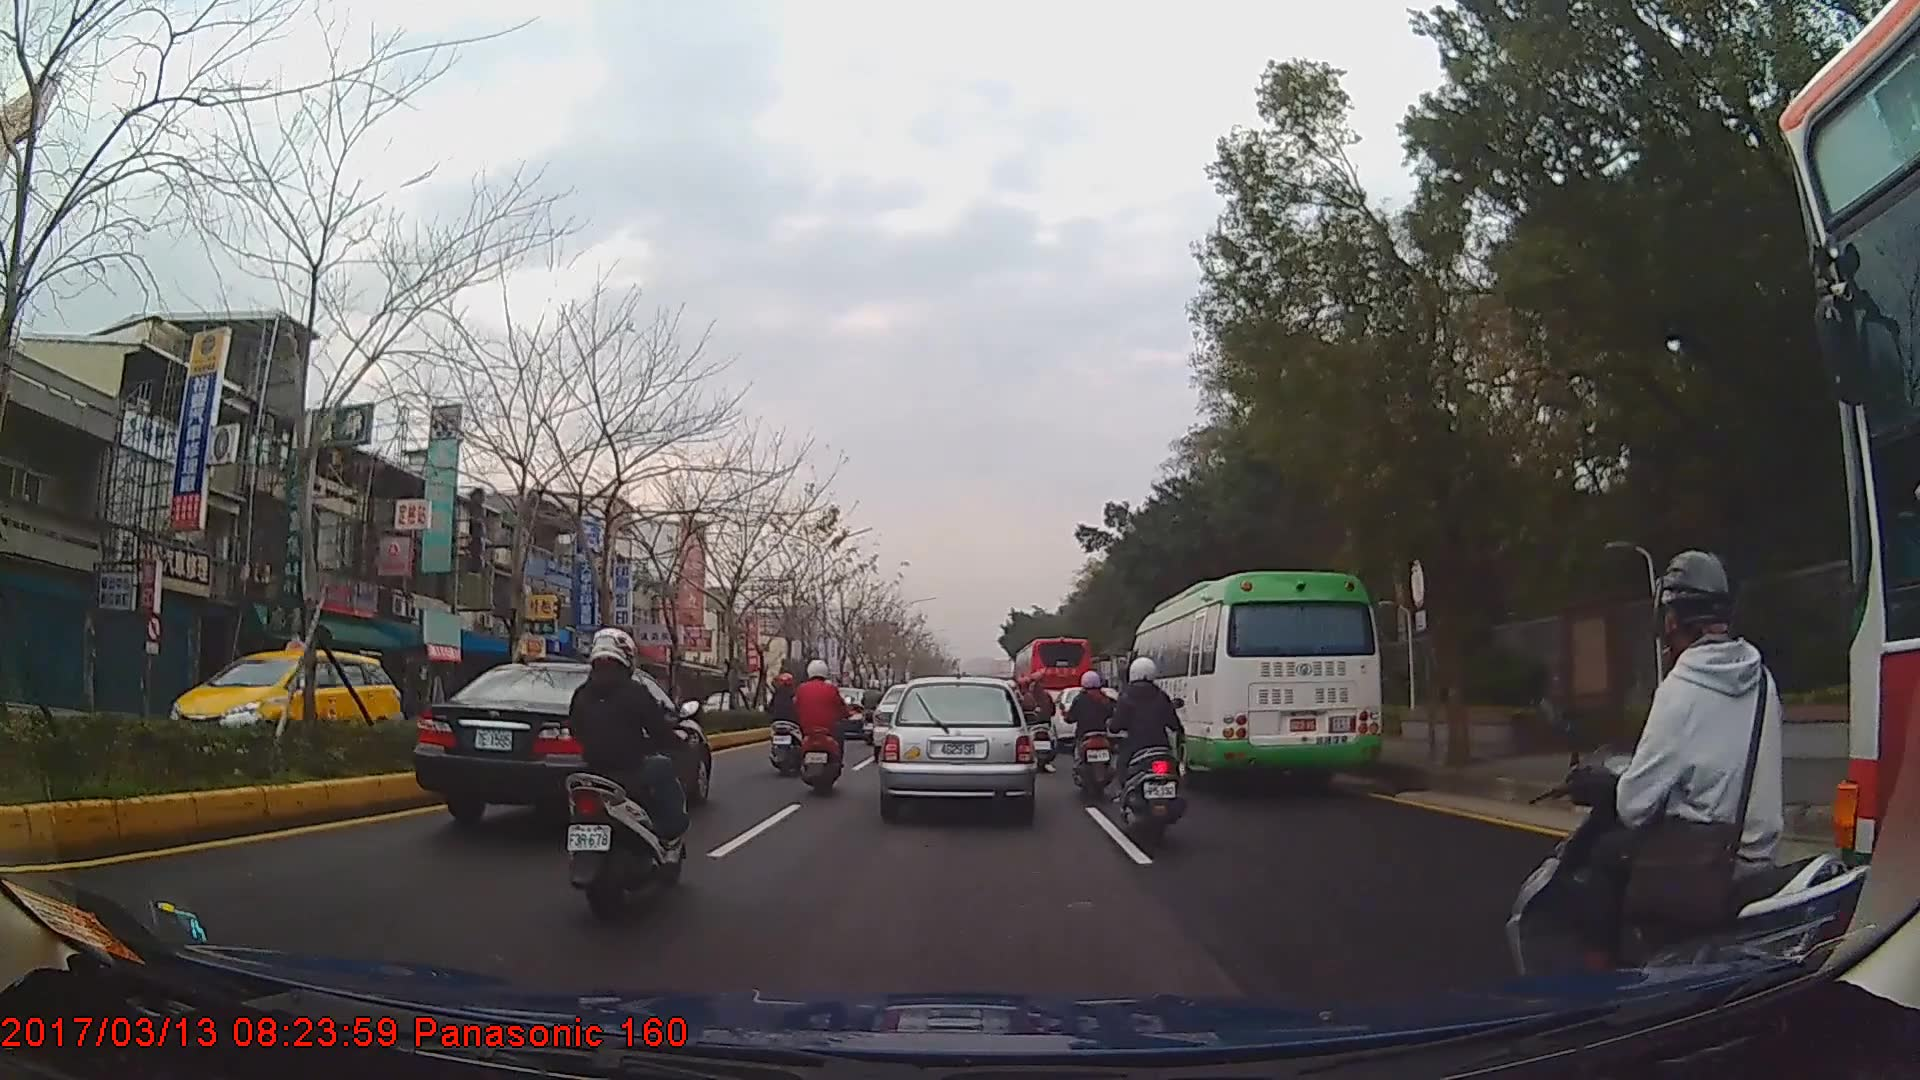rider: (1509, 546, 1867, 1011), (563, 626, 697, 917), (1113, 657, 1189, 840), (792, 659, 846, 798), (1064, 668, 1120, 802), (767, 673, 807, 778), (1016, 670, 1054, 772), (862, 680, 885, 745)
vehicle: (1124, 572, 1384, 798), (412, 660, 714, 834), (165, 631, 412, 769), (879, 675, 1033, 819), (1011, 631, 1095, 727)
